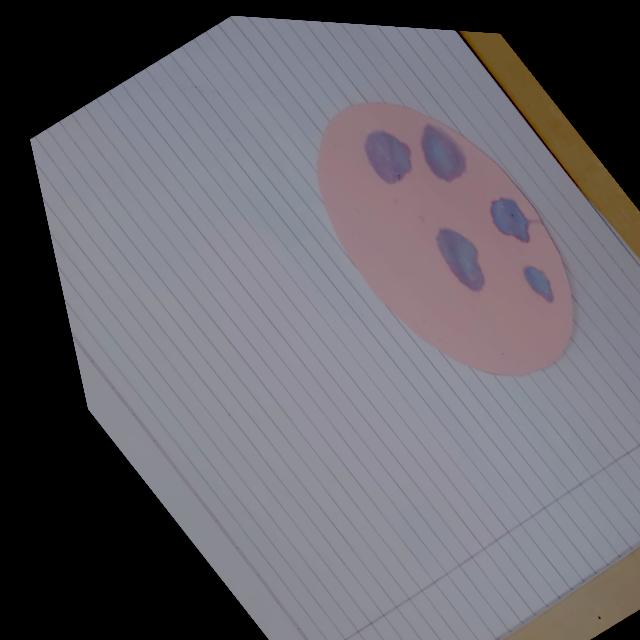BlueColor: (436, 228, 485, 291), (364, 130, 412, 183), (421, 125, 466, 181), (490, 197, 530, 242), (523, 266, 554, 302)
